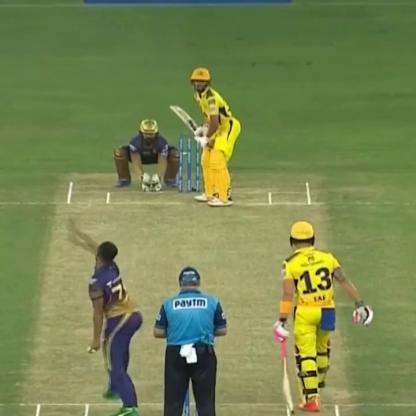ball: (80, 339, 97, 357)
bat: (162, 101, 215, 151)
pitch: (24, 170, 358, 414)
